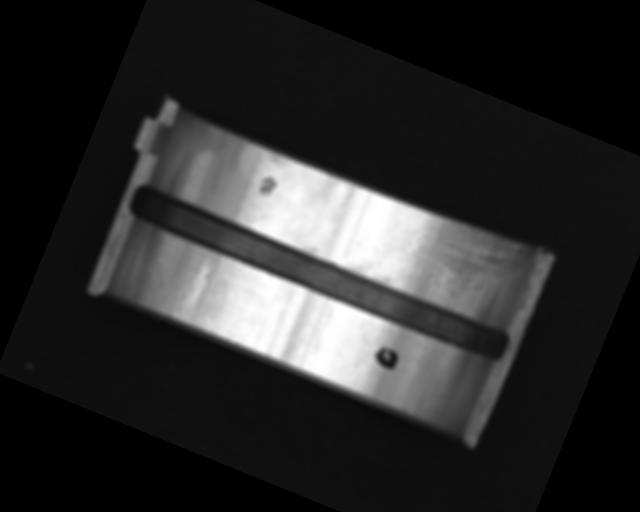blot: (369, 343, 403, 372)
bruise: (253, 171, 281, 201)
gap: (123, 179, 516, 369)
nick: (168, 252, 219, 329)
scratch: (374, 195, 534, 332)
